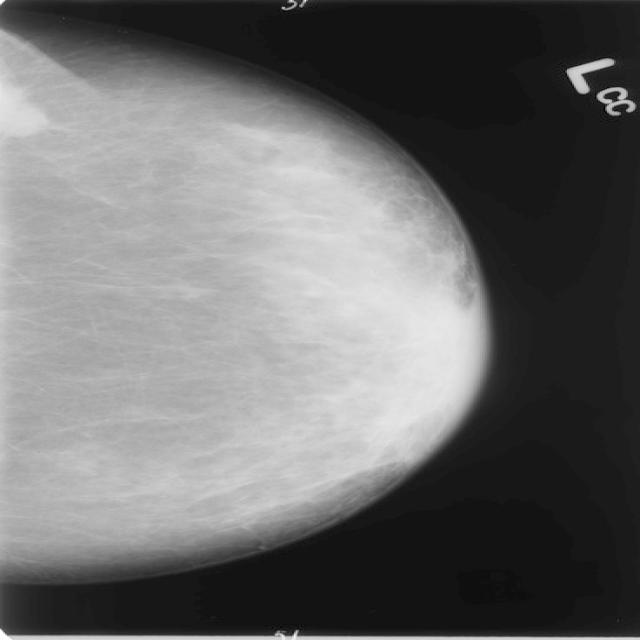tumour: (0, 77, 47, 137)
